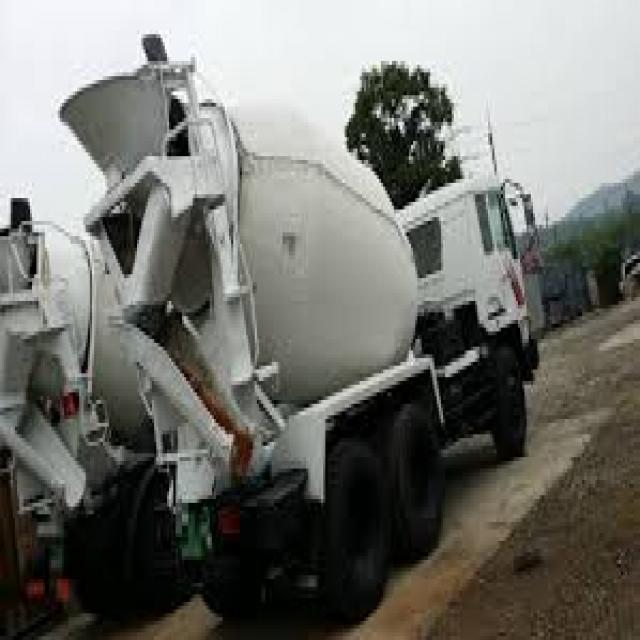Mixer Truck: (54, 31, 541, 620), (0, 194, 213, 613)
